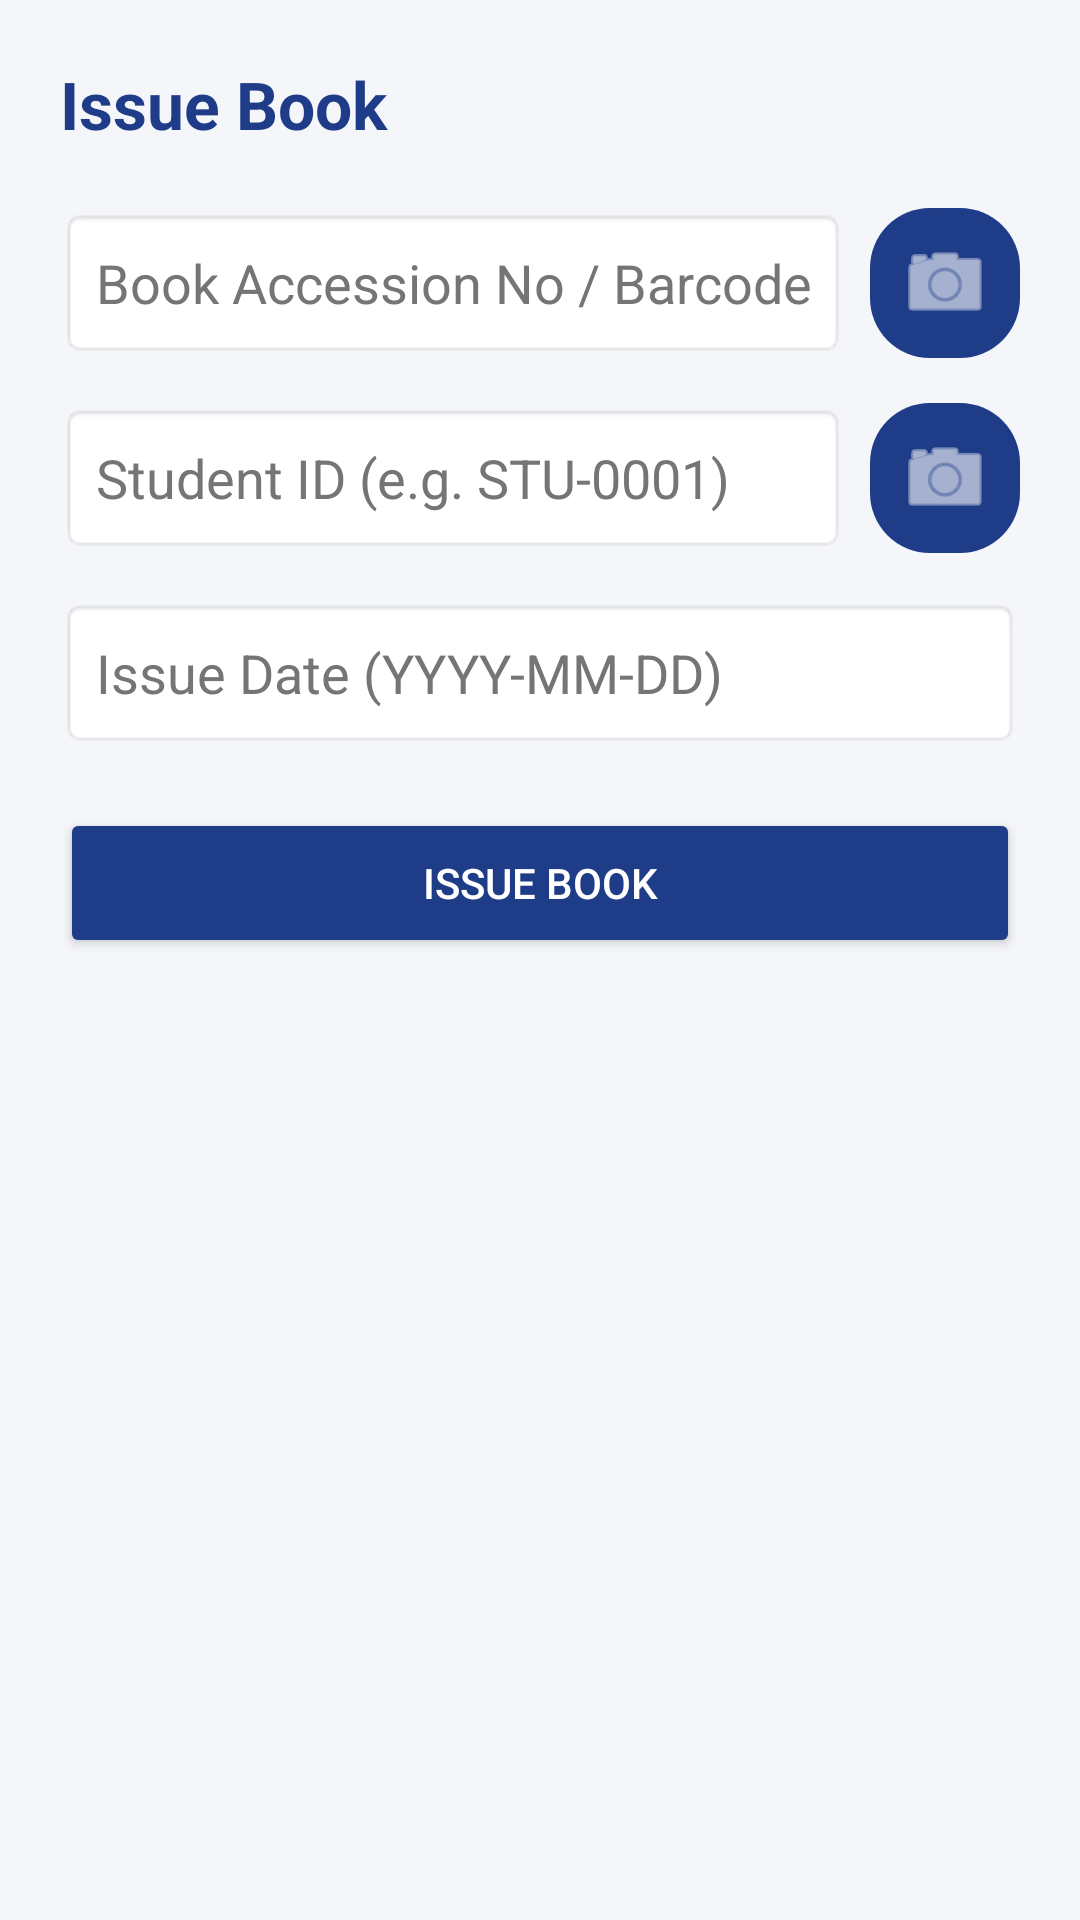

Named icons in this screenshot (1080×1920) and their bounding boxes, (x1, y1, x2, y2):
Scan Book Barcode: (870, 208, 1020, 358)
Scan Student QR: (870, 403, 1020, 553)
